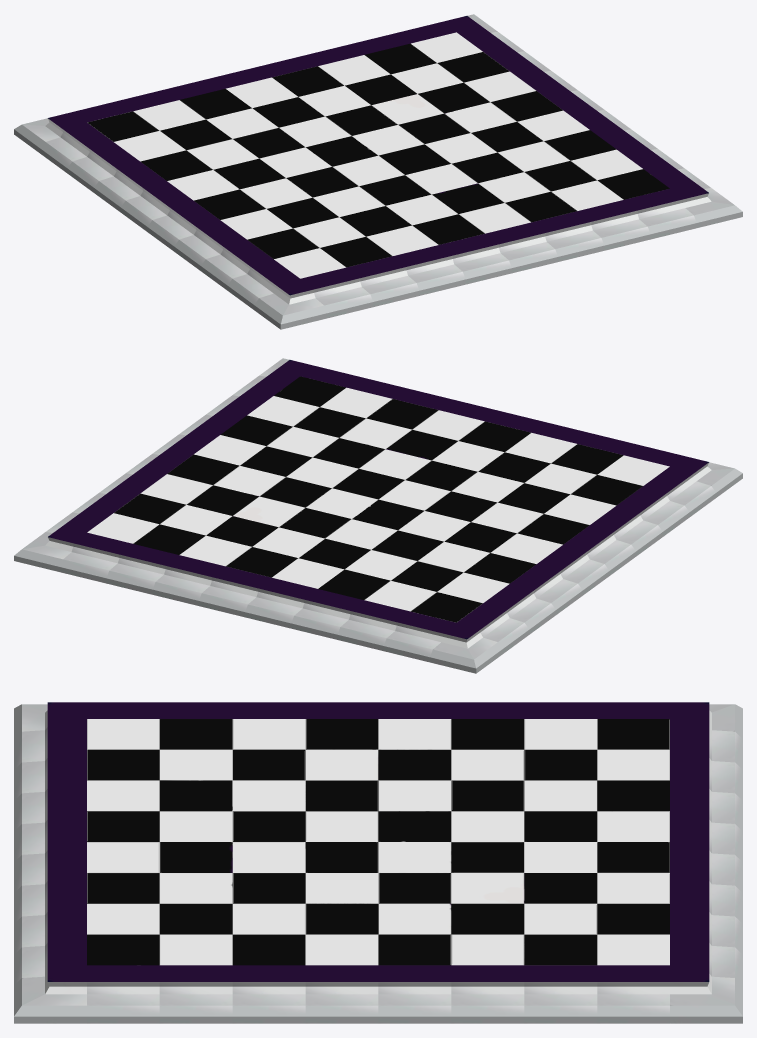
Rendered from Tablero.glb.
The picture shows the model from 3 angles, top to bottom: view 1: azimuth 30°, elevation 25°; view 2: azimuth 150°, elevation 25°; view 3: azimuth 270°, elevation 25°; orthographic projection. The views are drawn at different scales.
Parts seen in each view (by area): view 1: escaleras, pCube37, suelos_13, suelos_2, suelos_26, suelos_11, suelos_14, suelos_19, suelos_21, suelos_27, suelos_31, suelos_33 (+54 smaller); view 2: escaleras, pCube37, suelos_1, suelos_27, suelos_6, suelos_12, suelos_13, suelos_20, suelos_22, suelos_26, suelos_32, suelos_34 (+54 smaller); view 3: escaleras, pCube37, suelos_10, suelos_11, suelos_15, suelos_16, suelos_18, suelos_19, suelos_23, suelos_30, suelos_34, suelos_8 (+54 smaller).
Part boxes in pixels (box(x1,y1,x2,y2)): escaleras: box(40, 22, 710, 318); pCube37: box(14, 14, 742, 329); suelos_13: box(405, 164, 477, 194); suelos_2: box(332, 155, 404, 186); suelos_26: box(213, 158, 285, 189); suelos_11: box(313, 186, 385, 216); suelos_14: box(451, 152, 523, 183); suelos_19: box(391, 63, 463, 93); suelos_21: box(299, 85, 370, 116); suelos_27: box(240, 178, 312, 208); suelos_31: box(386, 194, 458, 225); suelos_33: box(478, 172, 550, 202); escaleras: box(46, 366, 716, 662); pCube37: box(14, 358, 742, 673); suelos_1: box(352, 499, 424, 530); suelos_27: box(471, 502, 543, 533); suelos_6: box(279, 508, 351, 538); suelos_12: box(405, 460, 477, 491); suelos_13: box(359, 449, 431, 479); suelos_20: box(206, 516, 278, 546); suelos_22: box(298, 538, 370, 569); suelos_26: box(444, 522, 516, 552); suelos_32: box(386, 429, 457, 460); suelos_34: box(293, 407, 365, 437); escaleras: box(14, 702, 742, 1023); pCube37: box(14, 702, 742, 1023); suelos_10: box(305, 780, 378, 811); suelos_11: box(232, 780, 305, 811); suelos_15: box(232, 903, 305, 934); suelos_16: box(305, 903, 378, 934); suelos_18: box(451, 903, 524, 934); suelos_19: box(524, 903, 597, 934); suelos_23: box(524, 780, 597, 811); suelos_30: box(159, 780, 232, 811); suelos_34: box(159, 903, 232, 934); suelos_8: box(451, 780, 524, 811).
Size of the model in its own units: 10 by 0.4172 by 10.
1 material, 1 textured.
